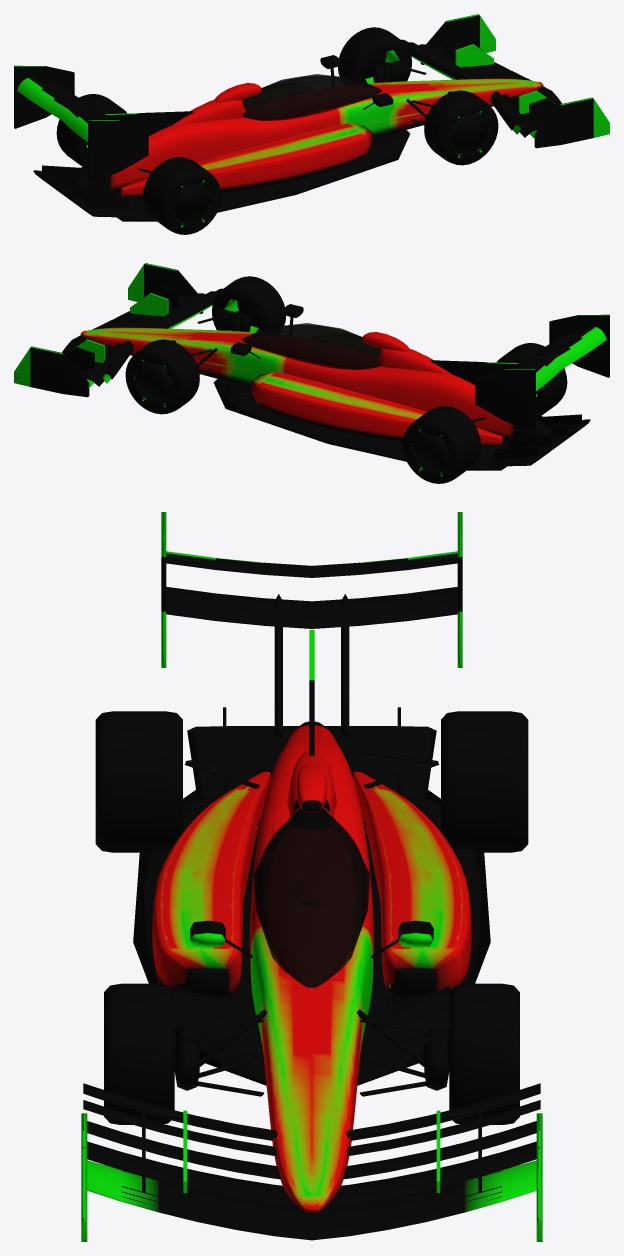
File: arrowhead.glb
3 views of the same model, one above another, from view 1: azimuth 30°, elevation 25°; view 2: azimuth 150°, elevation 25°; view 3: azimuth 270°, elevation 25° (orthographic). The views are drawn at different scales.
Parts seen in each view (by area): view 1: body_L0, body_L1, glass_L0, wheel_RR_L0, glass_L1, glass_L2, wheel_FR_L0, wheel_FL_L0, body_L2, wheel_FR_L2, wheel_RR_L2, wheel_RL_L0 (+4 smaller); view 2: body_L0, body_L1, glass_L0, wheel_RL_L0, glass_L1, glass_L2, wheel_FL_L0, wheel_FR_L0, body_L2, wheel_FL_L2, wheel_RL_L2, wheel_RR_L0 (+4 smaller); view 3: body_L0, body_L1, glass_L0, body_L2, wheel_RL_L0, wheel_RR_L0, glass_L2, wheel_FL_L0, wheel_FR_L0, glass_L1, wheel_RL_L1, wheel_RR_L1.
Boxes of the visible parts, box(x1,y1,x2,y2) form: body_L0: box(14, 14, 609, 220); body_L1: box(17, 14, 609, 214); glass_L0: box(242, 76, 381, 120); wheel_RR_L0: box(143, 157, 221, 234); glass_L1: box(243, 77, 379, 120); glass_L2: box(242, 74, 382, 120); wheel_FR_L0: box(424, 90, 498, 165); wheel_FL_L0: box(338, 27, 411, 81); body_L2: box(19, 44, 558, 221); wheel_FR_L2: box(439, 93, 496, 163); wheel_RR_L2: box(158, 159, 218, 233); wheel_RL_L0: box(56, 94, 126, 167); body_L0: box(14, 263, 609, 469); body_L1: box(14, 263, 606, 463); glass_L0: box(242, 325, 381, 369); wheel_RL_L0: box(402, 406, 480, 483); glass_L1: box(243, 326, 380, 369); glass_L2: box(241, 323, 381, 369); wheel_FL_L0: box(125, 339, 199, 414); wheel_FR_L0: box(212, 276, 285, 330); body_L2: box(65, 296, 604, 470); wheel_FL_L2: box(127, 342, 184, 412); wheel_RL_L2: box(405, 408, 465, 482); wheel_RR_L0: box(497, 343, 567, 416); body_L0: box(81, 512, 542, 1240); body_L1: box(81, 554, 542, 1241); glass_L0: box(256, 811, 367, 986); body_L2: box(83, 556, 540, 1229); wheel_RL_L0: box(441, 711, 528, 852); wheel_RR_L0: box(95, 711, 182, 852); glass_L2: box(253, 811, 369, 987); wheel_FL_L0: box(449, 983, 519, 1124); wheel_FR_L0: box(104, 983, 174, 1124); glass_L1: box(258, 811, 365, 984); wheel_RL_L1: box(441, 713, 528, 850); wheel_RR_L1: box(95, 713, 182, 850).
Size of the model in its own units: 5.56 by 1.32 by 2.22.
